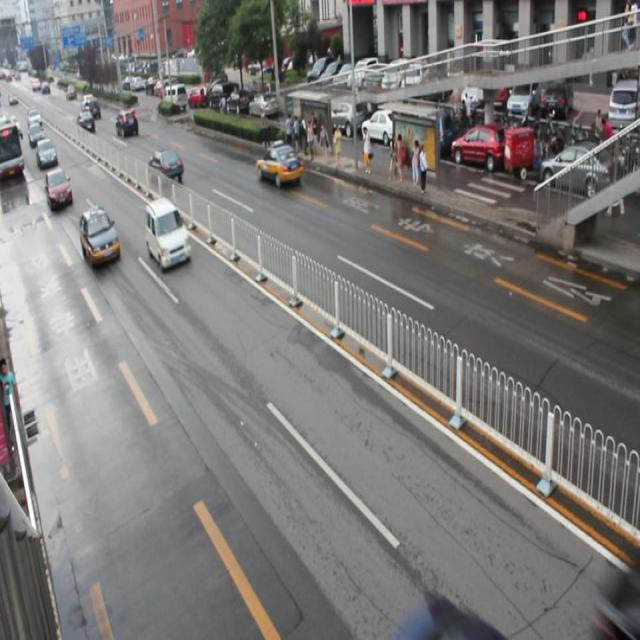car: (145, 197, 191, 271), (79, 203, 120, 265), (255, 141, 304, 186), (146, 148, 185, 183), (45, 167, 73, 208)
